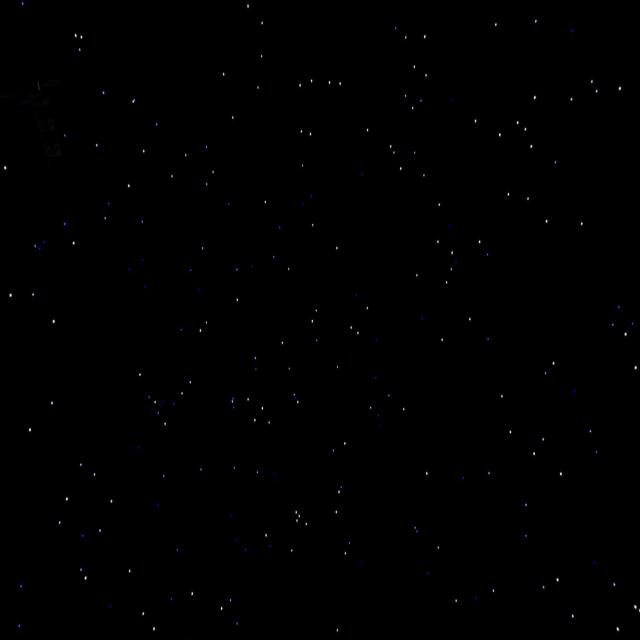satellite: (0, 65, 85, 160)
